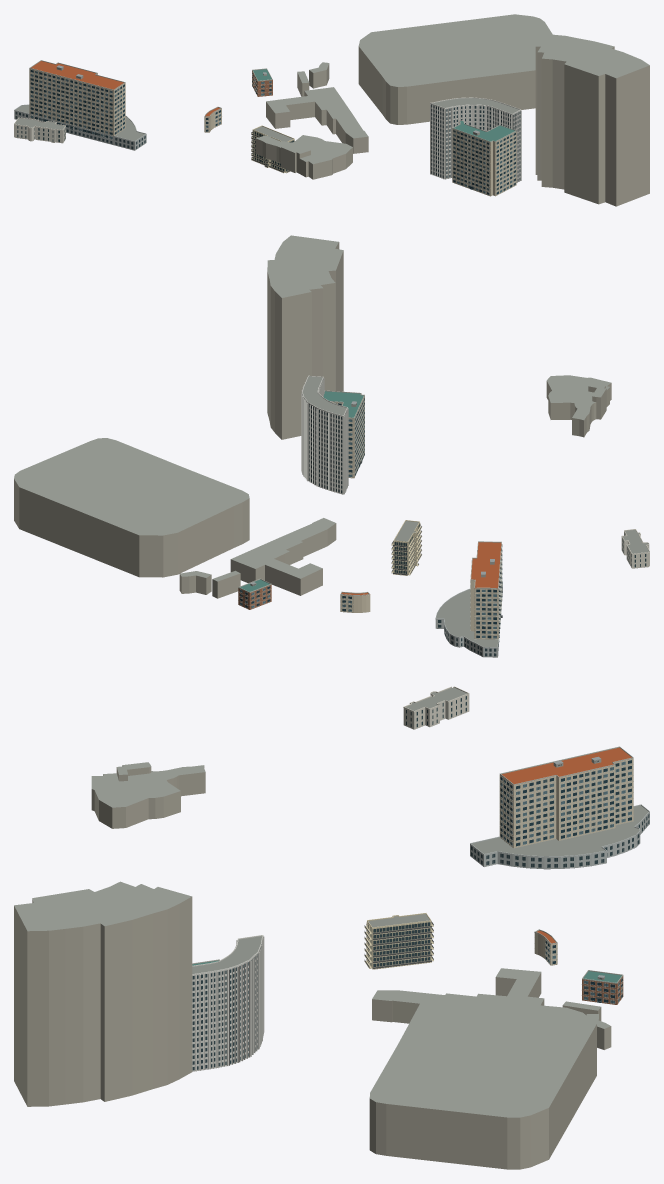
File: zone_3_2-high.glb
3 views of the same model, one above another, from view 1: azimuth 30°, elevation 25°; view 2: azimuth 150°, elevation 25°; view 3: azimuth 270°, elevation 25° (orthographic). The views are drawn at different scales.
Parts seen in each view (by area): view 1: web_building_185253514, web_building_1080920665, web_building_923320416, web_building_185266978, web_building_185266979, web_building_519120430, web_building_751059032, web_building_135156233, web_building_135313705, web_building_134819423, web_building_545777838, web_building_751059031 (+2 smaller); view 2: web_building_1080920665, web_building_185253514, web_building_185266979, web_building_519120430, web_building_923320416, web_building_751059032, web_building_135156233, web_building_185266978, web_building_134819423, web_building_135313705, web_building_545777838, web_building_519120429 (+2 smaller); view 3: web_building_185253514, web_building_1080920665, web_building_923320416, web_building_185266979, web_building_135156233, web_building_751059032, web_building_134819423, web_building_519120430, web_building_135313705, web_building_545777838.
Part boxes in pixels (left/top/right/bottom): web_building_185253514: left=535, top=34, right=649, bottom=206; web_building_1080920665: left=358, top=14, right=552, bottom=124; web_building_923320416: left=29, top=60, right=125, bottom=139; web_building_185266978: left=452, top=120, right=516, bottom=196; web_building_185266979: left=430, top=97, right=521, bottom=182; web_building_519120430: left=266, top=87, right=368, bottom=153; web_building_751059032: left=255, top=135, right=352, bottom=179; web_building_135156233: left=14, top=104, right=146, bottom=150; web_building_135313705: left=14, top=117, right=66, bottom=143; web_building_134819423: left=251, top=125, right=294, bottom=173; web_building_545777838: left=252, top=68, right=272, bottom=96; web_building_751059031: left=281, top=145, right=310, bottom=168; web_building_1080920665: left=14, top=438, right=249, bottom=577; web_building_185253514: left=267, top=235, right=343, bottom=439; web_building_185266979: left=301, top=375, right=348, bottom=494; web_building_519120430: left=230, top=518, right=336, bottom=595; web_building_923320416: left=470, top=541, right=502, bottom=641; web_building_751059032: left=546, top=375, right=611, bottom=437; web_building_135156233: left=435, top=581, right=502, bottom=657; web_building_185266978: left=323, top=390, right=364, bottom=478; web_building_134819423: left=391, top=520, right=421, bottom=575; web_building_135313705: left=621, top=529, right=649, bottom=568; web_building_545777838: left=238, top=578, right=271, bottom=609; web_building_519120429: left=179, top=571, right=211, bottom=594; web_building_185253514: left=14, top=881, right=192, bottom=1106; web_building_1080920665: left=369, top=996, right=596, bottom=1169; web_building_923320416: left=499, top=746, right=633, bottom=848; web_building_185266979: left=192, top=935, right=264, bottom=1071; web_building_135156233: left=470, top=804, right=649, bottom=869; web_building_751059032: left=91, top=765, right=205, bottom=828; web_building_134819423: left=364, top=913, right=433, bottom=969; web_building_519120430: left=372, top=968, right=544, bottom=1023; web_building_135313705: left=403, top=686, right=469, bottom=729; web_building_545777838: left=581, top=970, right=623, bottom=1004.
Size of the model in its own units: 461 by 113 by 337.
